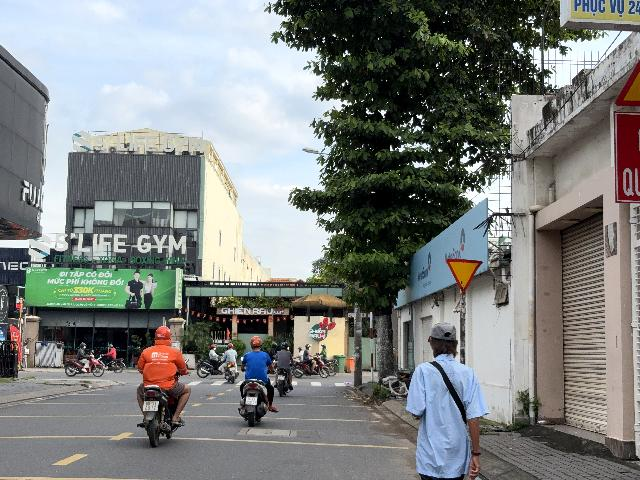giao-nhau-voi-duong-uu-tien: (446, 258, 482, 293)
